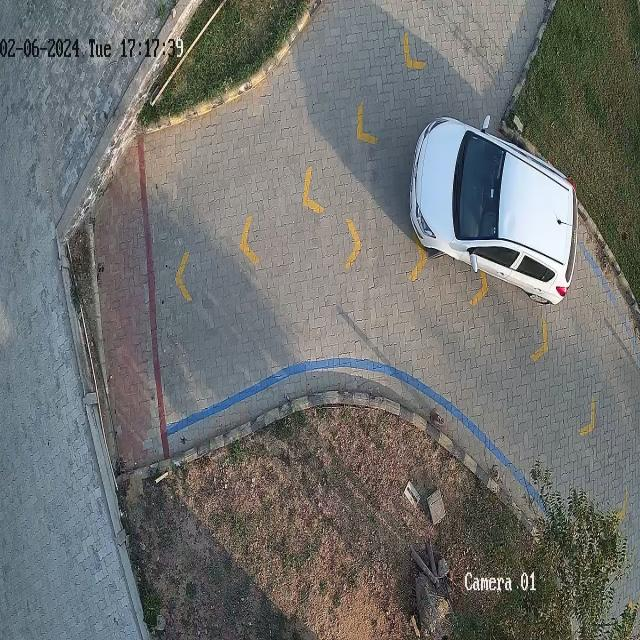car: (410, 117, 577, 304)
